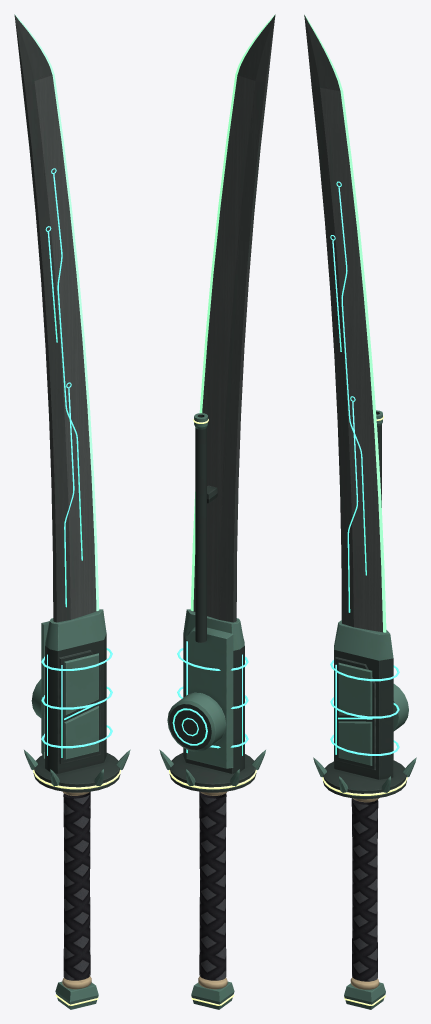
3 views of the same model, side by side, from view 1: azimuth 30°, elevation 25°; view 2: azimuth 150°, elevation 25°; view 3: azimuth 330°, elevation 25° (orthographic). The views are drawn at different scales.
Parts seen in each view (by area): view 1: kat_blade_jade, kat_shin_jade, kat_plate_jade, kat_dark_jade, kat_wrap, glow_kat_line_green, glow_kat_edge_green, glow_kat_rim_green, kat_pale_jade; view 2: kat_blade_jade, kat_shin_jade, kat_plate_jade, kat_dark_jade, kat_wrap, glow_kat_edge_green, glow_kat_line_green, glow_kat_rim_green, kat_pale_jade; view 3: kat_blade_jade, kat_shin_jade, kat_plate_jade, kat_dark_jade, kat_wrap, glow_kat_line_green, glow_kat_edge_green, glow_kat_rim_green, kat_pale_jade.
Boxes of the visible parts, x1,y1,x2,y2 form: kat_blade_jade: (34,75,96,619); kat_shin_jade: (14,14,70,622); kat_plate_jade: (24,609,130,1009); kat_dark_jade: (33,634,120,792); kat_wrap: (63,791,90,980); glow_kat_line_green: (41,168,112,757); glow_kat_edge_green: (15,15,99,610); glow_kat_rim_green: (33,770,120,1005); kat_pale_jade: (62,791,91,989); kat_blade_jade: (193,75,255,619); kat_shin_jade: (219,14,275,622); kat_plate_jade: (159,413,265,1009); kat_dark_jade: (169,414,256,792); kat_wrap: (199,791,226,980); glow_kat_edge_green: (190,15,274,610); glow_kat_line_green: (172,641,248,755); glow_kat_rim_green: (169,419,256,1005); kat_pale_jade: (198,791,227,989); kat_blade_jade: (320,87,382,632); kat_shin_jade: (304,15,353,627); kat_plate_jade: (313,410,416,1009); kat_dark_jade: (323,411,406,799); kat_wrap: (351,798,378,981); glow_kat_line_green: (330,181,399,755); glow_kat_edge_green: (305,16,386,632); glow_kat_rim_green: (322,416,407,1005); kat_pale_jade: (350,798,379,989).
Bounding box in the file's own units: 0.1533 × 1.43 × 0.138.
9 materials, 6 textured.
